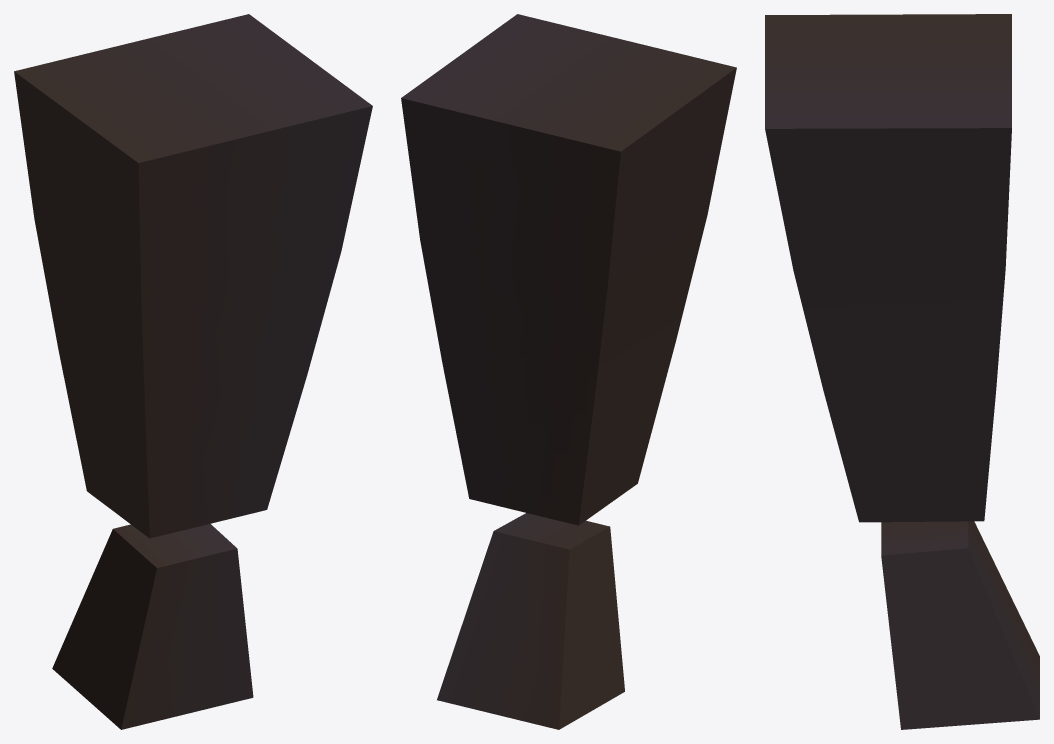
File: quest_mark_outline.fbx
3 views of the same model, side by side, from view 1: azimuth 30°, elevation 25°; view 2: azimuth 150°, elevation 25°; view 3: azimuth 270°, elevation 25° (orthographic). The views are drawn at different scales.
Parts seen in each view (by area): view 1: Plane001s; view 2: Plane001s; view 3: Plane001s.
Part boxes in pixels (x1,y1,x2,y2): Plane001s: (14, 14, 372, 729); Plane001s: (401, 14, 736, 729); Plane001s: (765, 14, 1039, 729).
Bounding box in the file's own units: 0.7247 × 0.7383 × 1.86.
Materials: 1 (1 with a texture image).
